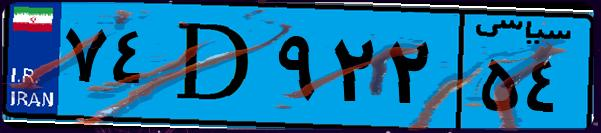2: (385, 28, 445, 110), (330, 28, 385, 110)
4: (525, 38, 570, 115), (110, 28, 158, 98)
5: (475, 38, 525, 113)
7: (57, 26, 110, 100)
9: (270, 28, 330, 110)
D: (158, 12, 270, 120)
